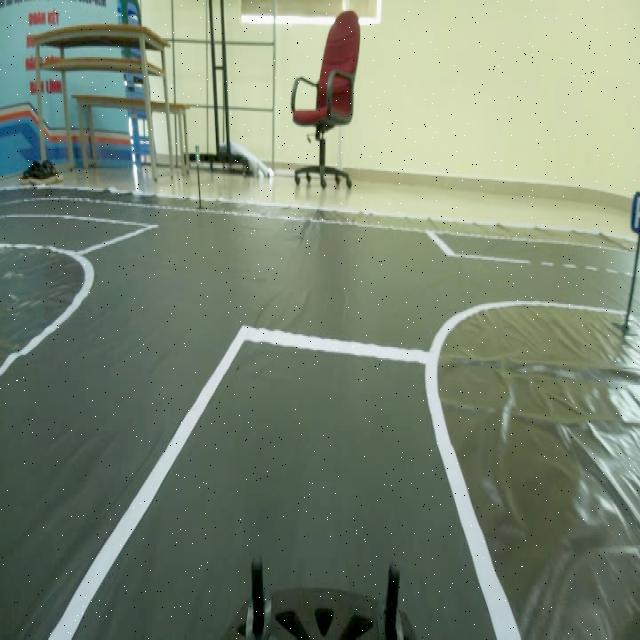parking: (626, 180, 640, 240)
